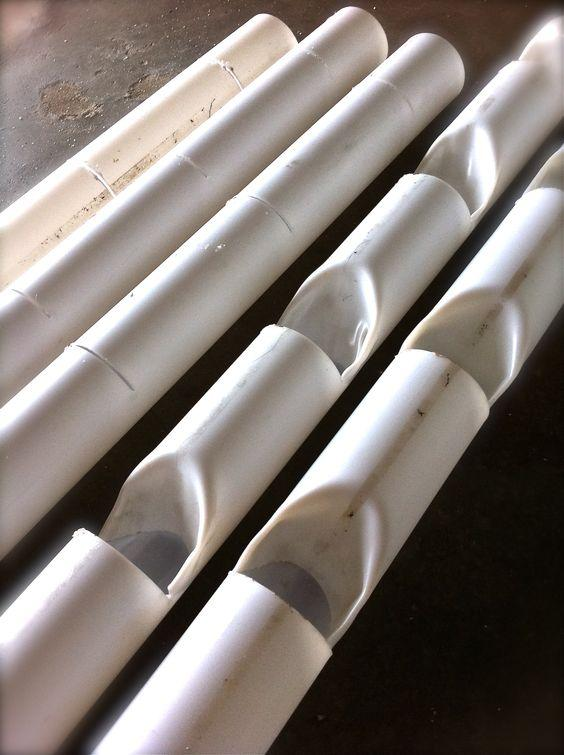PVC: (8, 124, 375, 741), (381, 58, 551, 381), (166, 17, 366, 108)
